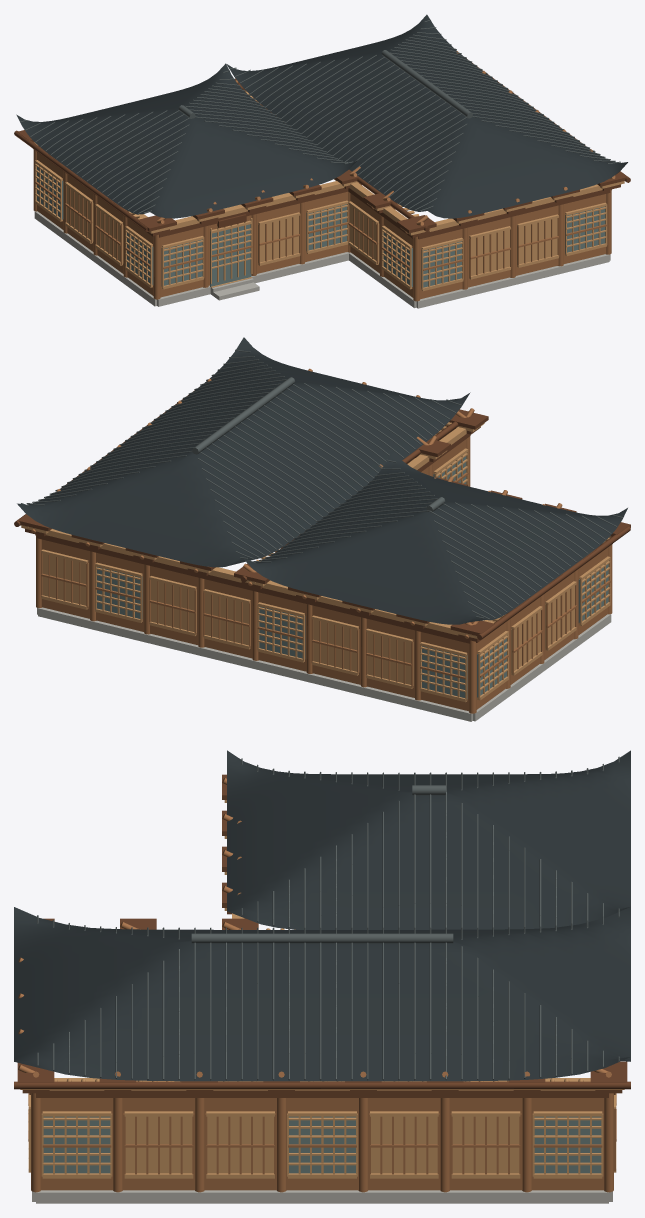
3 renders of one model, top to bottom at view 1: azimuth 30°, elevation 25°; view 2: azimuth 150°, elevation 25°; view 3: azimuth 270°, elevation 25°, orthographic. The views are drawn at different scales.
Parts seen in each view (by area): view 1: tile, lightwood, wood, tileedge, glass, darkwood, stone, entranceStep; view 2: tile, lightwood, wood, tileedge, darkwood, stone, glass; view 3: tile, wood, lightwood, tileedge, darkwood, glass, stone.
Part boxes in pixels (<box>): tile: <box>16,14,627,218</box>; lightwood: <box>34,90,624,291</box>; wood: <box>33,51,619,301</box>; tileedge: <box>20,19,620,213</box>; glass: <box>37,167,605,288</box>; darkwood: <box>14,58,630,239</box>; stone: <box>34,211,610,308</box>; entranceStep: <box>213,282,259,300</box>; tile: <box>17,337,627,624</box>; lightwood: <box>20,422,611,702</box>; wood: <box>26,368,612,713</box>; tileedge: <box>20,349,622,619</box>; darkwood: <box>14,390,630,643</box>; stone: <box>37,607,611,721</box>; glass: <box>97,456,608,698</box>; tile: <box>14,750,630,1081</box>; wood: <box>18,778,616,1192</box>; lightwood: <box>20,800,624,1178</box>; tileedge: <box>37,756,619,1080</box>; darkwood: <box>14,774,630,1097</box>; glass: <box>43,1116,601,1173</box>; stone: <box>32,1190,612,1203</box>.
Bounding box in the file's own units: 19.62 × 5.99 × 16.5.
